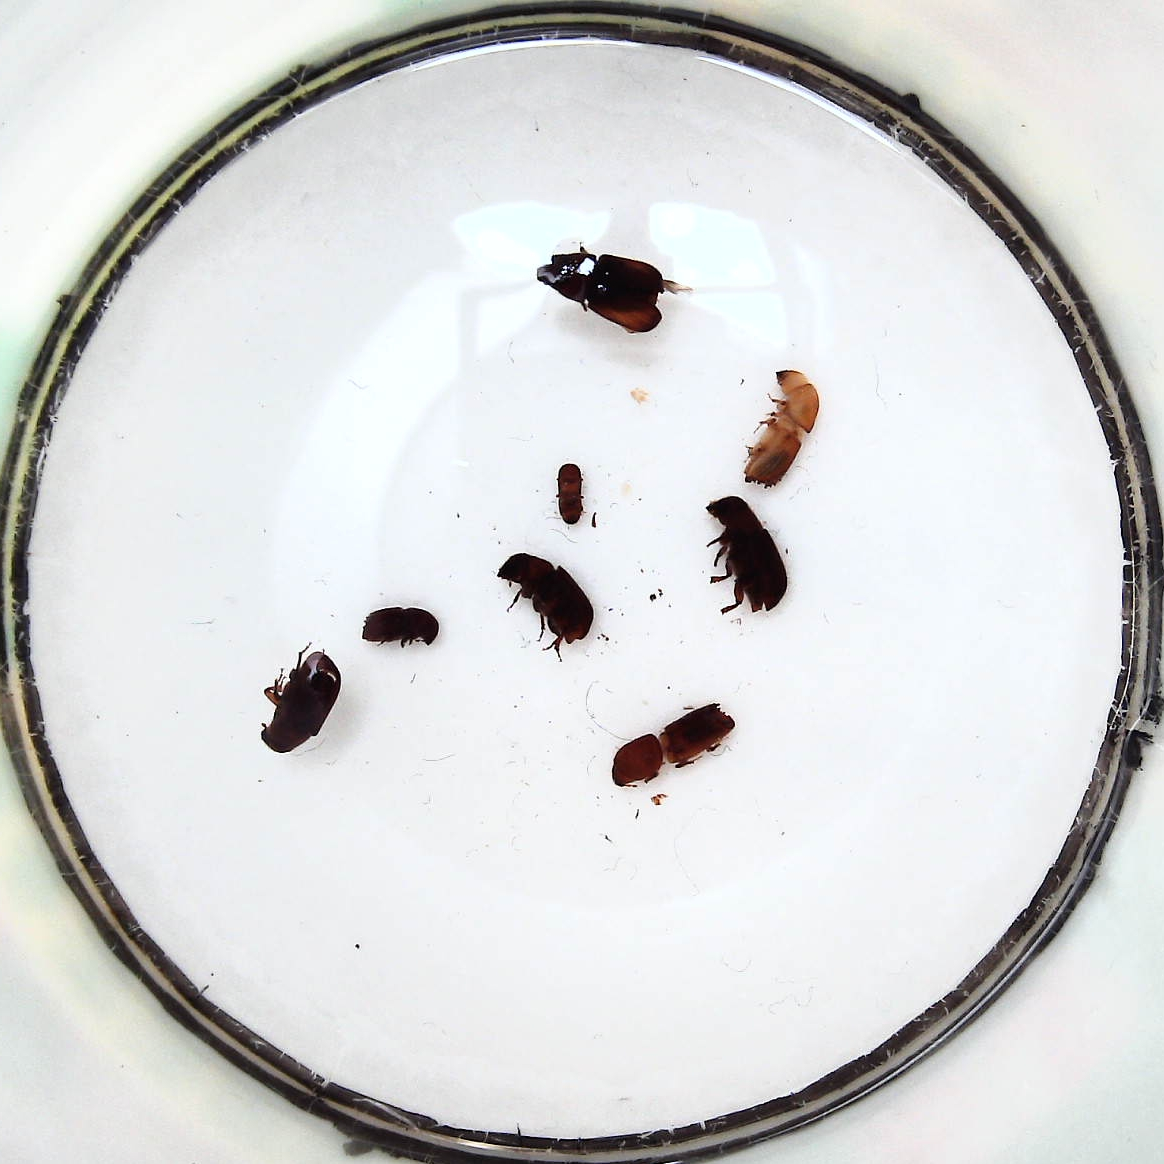Boerner: (608, 700, 739, 787), (741, 362, 821, 489)
Leconte: (534, 249, 672, 335), (704, 492, 788, 616), (495, 549, 596, 648), (257, 644, 344, 753)
Linnaeus: (357, 602, 441, 648)
acuminatus: (552, 457, 591, 528)
